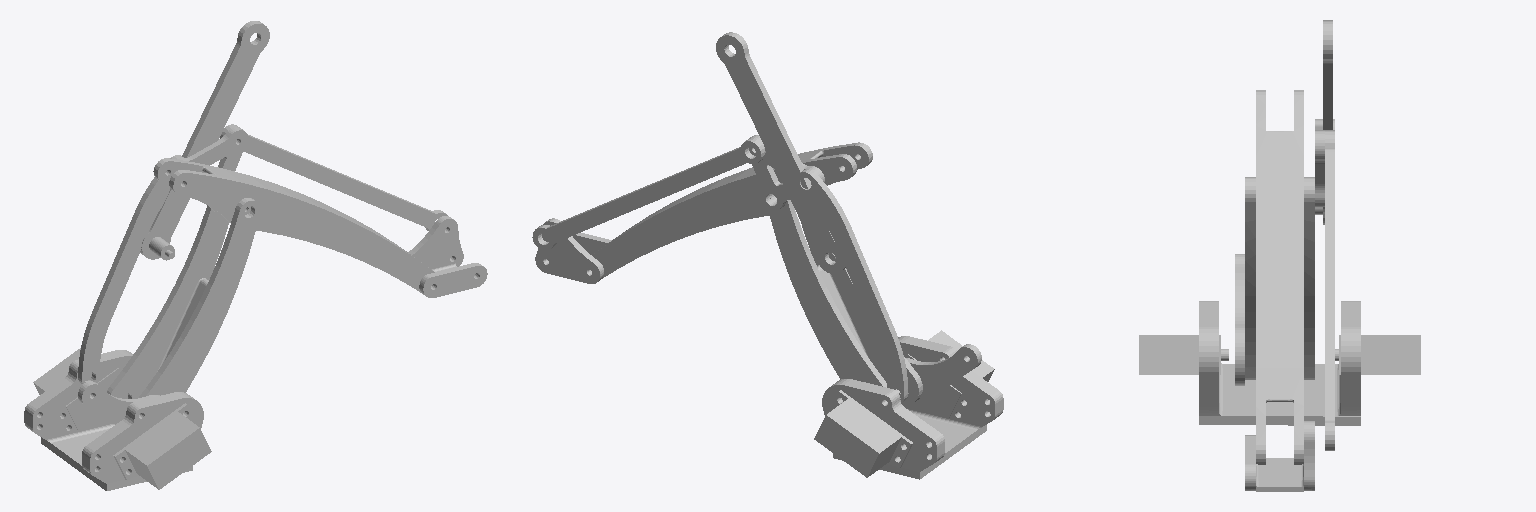
URDF robot description (robotdragon):
<?xml version="1.0"?>
<robot name="robotdragon">
	 <link name="base">
	 	<visual>
			<geometry>
				<mesh filename="package://robopkg/meshes/base.dae"/>
			</geometry>
			<origin xyz="0 0 0" rpy="0 0 0"/>
			<material name="white">
				<color rgba="0.8 0.8 0.8 0.8"/>
			</material>
		</visual>
	</link>
	<link name="connectrod">
	 	<visual>
			<geometry>
				<mesh filename="package://robopkg/meshes/connectingrod1.dae"/>
			</geometry>
			<origin xyz="0 6 0" rpy="0 0 0"/>
			<material name="white">
				<color rgba="0.8 0.8 0.8 0.8"/>
			</material>
		</visual>
	</link>
	<link name="link1">
	 	<visual>
			<geometry>
				<mesh filename="package://robopkg/meshes/link1_1.dae"/>
			</geometry>
			<origin xyz="4.29412 5.2000 -2.66891" rpy="0 0 0"/>
			<material name="white">
				<color rgba="0.8 0.8 0.8 0.8"/>
			</material>
		</visual>
	</link>

	<link name="supplink">
	 	<visual>
			<geometry>
				<mesh filename="package://robopkg/meshes/supplink.dae"/>
			</geometry>
			<origin xyz="0 0 0" rpy="0 0 0"/>
			<material name="white">
				<color rgba="0.8 0.8 0.8 0.8"/>
			</material>
		</visual>
	</link>

	<link name="link3">
	 	<visual>
			<geometry>
				<mesh filename="package://robopkg/meshes/link3_2.dae"/>
			</geometry>
			<origin xyz="-7 3 -12.12" rpy="0 0 0"/>
			<material name="white">
				<color rgba="0.8 0.8 0.8 0.8"/>
			</material>
		</visual>
	</link>

	<link name="auxlink">
	 	<visual>
			<geometry>
				<mesh filename="package://robopkg/meshes/auxlink.dae"/>
			</geometry>
			<origin xyz="1.89664 0.300 -1.49095" rpy="0 0 0"/>
			<material name="white">
				<color rgba="0.8 0.8 0.8 0.8"/>
			</material>
		</visual>
	</link>

	<link name="trilink">
	 	<visual>
			<geometry>
				<mesh filename="package://robopkg/meshes/trilink.dae"/>
			</geometry>
			<origin xyz="-7.02894 1.05 -12.12321" rpy="0 0 0"/>
			<material name="white">
				<color rgba="0.8 0.8 0.8 0.8"/>
			</material>
		</visual>
	</link>

	<link name="endeff">
	 	<visual>
			<geometry>
				<mesh filename="package://robopkg/meshes/endeff.dae"/>
			</geometry>
			<origin xyz="-19.91586 3.000 -4.10216" rpy="0 0 0"/>
			<material name="white">
				<color rgba="0.8 0.8 0.8 0.8"/>
			</material>
		</visual>
	</link>

	<link name="external">
	 	<visual>
			<geometry>
				<mesh filename="package://robopkg/meshes/external.dae"/>
			</geometry>
			<origin xyz="-22.53965 0.5500 -6.11641" rpy="0 0 0"/>
			<material name="white">
				<color rgba="0.8 0.8 0.8 0.8"/>
			</material>
		</visual>
	</link>


	<joint type="revolute" name="base_connect" >
    		<axis xyz="0 1 0"/>
    		<limit effort="1000.0" lower="-3" upper="3" velocity="0.5"/>
    		<origin rpy="0 0 0" xyz="0 -6 0"/>
    		<parent link="base"/>
    		<child link="connectrod"/>
 	</joint>
	
	<joint type="revolute" name="link3_link1" >
    		<axis xyz="0 1 0"/>
    		<limit effort="1000.0" lower="-3" upper="3" velocity="0.5"/>
    		<origin rpy="0 0 0" xyz="-4.341 0.225 -2.69265"/>
    		<parent link="link3"/>
    		<child link="link1"/>
 	</joint>


	<joint type="revolute" name="base_supplink" >
    		<axis xyz="0 1 0"/>
    		<limit effort="1000.0" lower="-3" upper="3" velocity="0.5"/>
    		<origin rpy="0 0 0" xyz="0 0 0"/>
    		<parent link="base"/>
    		<child link="supplink"/>
 	</joint>

	<joint type="revolute" name="supplink_link3" >
    		<axis xyz="0 1 0"/>
    		<limit effort="1000.0" lower="-3" upper="3" velocity="0.5"/>
    		<origin rpy="0 0 0" xyz="7 -3 12.12"/>
    		<parent link="supplink"/>
    		<child link="link3"/>
 	</joint>
	
	<joint type="revolute" name="base_auxlink" >
    		<axis xyz="0 1 0"/>
    		<limit effort="1000.0" lower="-3" upper="3" velocity="0.5"/>
    		<origin rpy="0 0 0" xyz="-1.89664 -0.300 1.49095"/>
    		<parent link="base"/>
    		<child link="auxlink"/>
 	</joint>


	<joint type="revolute" name="supplink_trilink" >
    		<axis xyz="0 1 0"/>
    		<limit effort="1000.0" lower="-3" upper="3" velocity="0.5"/>
    		<origin xyz="7.02894 -1.05 12.12321" rpy="0 0 0" />
    		<parent link="supplink"/>
    		<child link="trilink"/>
 	</joint>

	<joint type="revolute" name="link3_endeff" >
    		<axis xyz="0 1 0" />
    		<limit effort="1000.0" lower="-3" upper="3" velocity="0.5"/>
    		<origin xyz="12.91201 0 -8.01997" rpy="0 0 0"/>
    		<parent link="link3"/>
    		<child link="endeff"/>
 	</joint>

	<joint type="revolute" name="endeff_external" >
    		<axis xyz="0 1 0" />
    		<limit effort="1000.0" lower="-3" upper="3" velocity="0.5"/>
    		<origin xyz="2.62379 2.45 2.01425" rpy="0 0 0"/>
    		<parent link="endeff"/>
    		<child link="external"/>
 	</joint>
</robot>
	

--- Render facts (derived) ---
The picture shows the robot from 3 angles, left to right: view 1: azimuth 30°, elevation 25°; view 2: azimuth 150°, elevation 25°; view 3: azimuth 270°, elevation 25°; orthographic projection.
Model robotdragon with 9 links and 8 joints (8 revolute), rooted at base, posed every joint at zero.
Links seen in each view (by area): view 1: base, supplink, link3, link1, auxlink, external, endeff, trilink, connectrod; view 2: base, supplink, link3, link1, auxlink, external, endeff, connectrod, trilink; view 3: link3, base, supplink, external, endeff, connectrod, link1, trilink.
Boxes of the visible links, <box> form: base: <box>24,348,211,490</box>; supplink: <box>107,198,260,398</box>; link3: <box>153,158,434,292</box>; link1: <box>140,21,269,260</box>; auxlink: <box>78,155,183,384</box>; external: <box>220,124,447,230</box>; endeff: <box>408,216,487,297</box>; trilink: <box>177,127,248,170</box>; connectrod: <box>78,381,159,424</box>; base: <box>814,330,1003,479</box>; supplink: <box>768,194,922,405</box>; link3: <box>592,142,872,278</box>; link1: <box>716,32,845,273</box>; auxlink: <box>795,169,908,402</box>; external: <box>532,138,765,250</box>; endeff: <box>535,218,611,283</box>; connectrod: <box>905,344,981,406</box>; trilink: <box>749,135,824,211</box>; link3: <box>1256,90,1303,464</box>; base: <box>1139,301,1420,425</box>; supplink: <box>1245,177,1314,379</box>; external: <box>1325,130,1334,450</box>; endeff: <box>1245,421,1314,491</box>; connectrod: <box>1235,254,1244,385</box>; link1: <box>1315,20,1332,224</box>; trilink: <box>1315,119,1324,206</box>.
Bounding box of the posed robot: 29.16 × 13.86 × 25.6 m (x, y, z).
9 mesh visuals loaded from 9 distinct referenced files (9 Collada DAE).